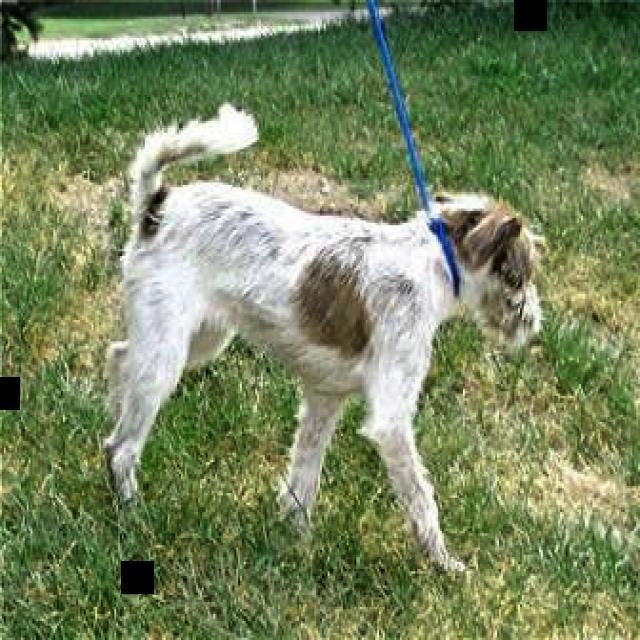adult_dog: (102, 100, 549, 577)
